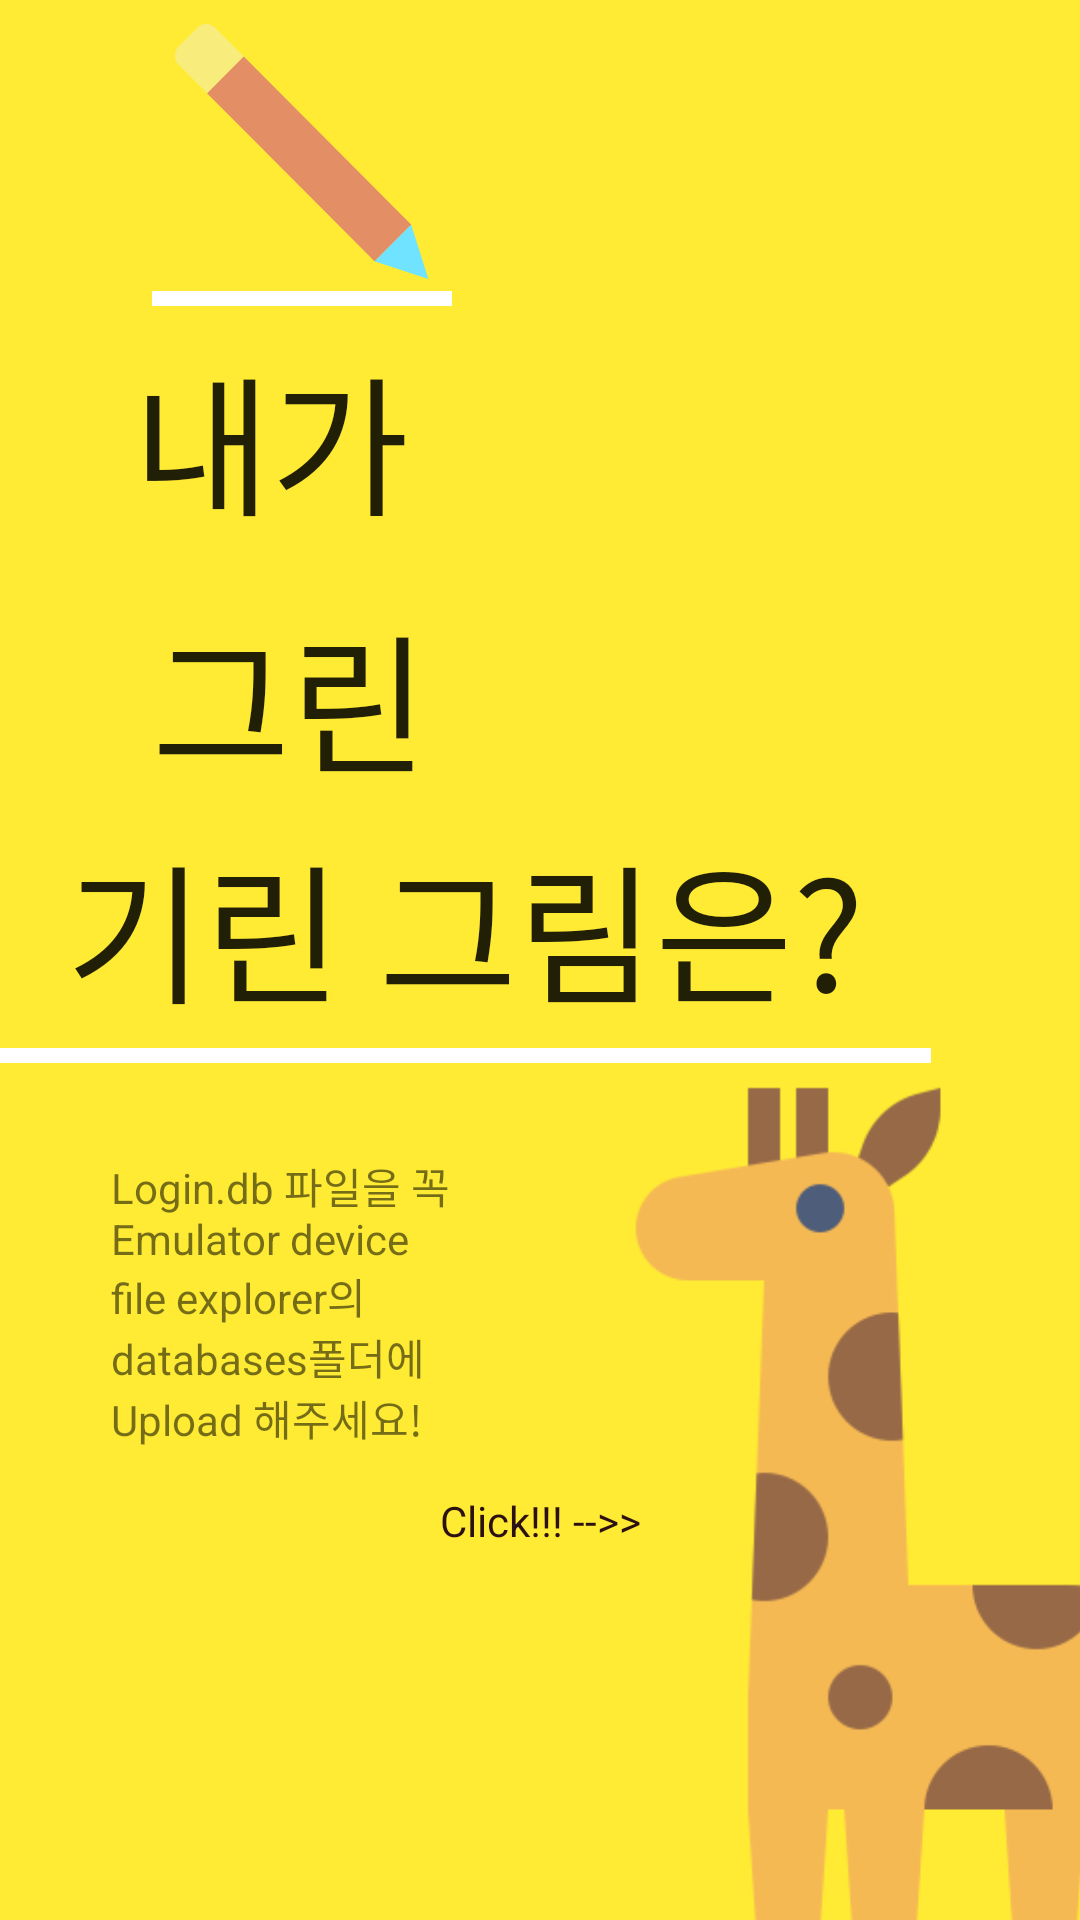

Locate icon controls on the screen. Image size 1080*1920, boxes as (x1, y1, x2, y2).
colorpencil: (175, 24, 429, 279)
